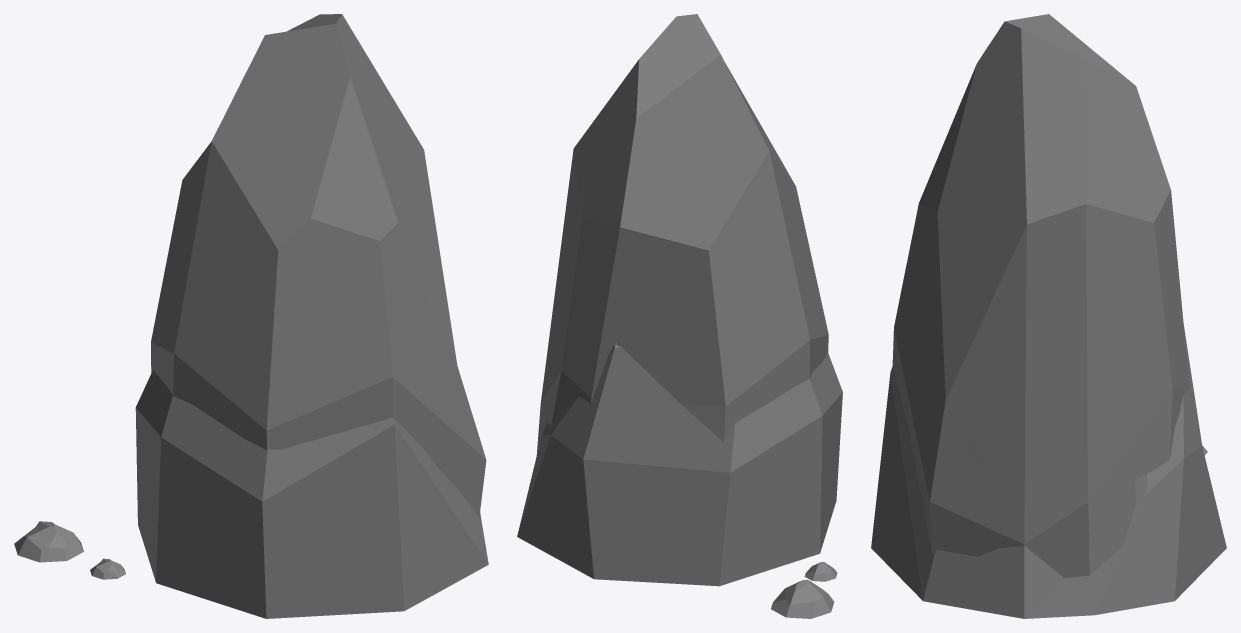
The model's file is Rocks.fbx.
The picture shows the model from 3 angles, left to right: view 1: azimuth 30°, elevation 25°; view 2: azimuth 150°, elevation 25°; view 3: azimuth 270°, elevation 25°; orthographic projection. The views are drawn at different scales.
Parts seen in each view (by area): view 1: Rock 1, Rock 2; view 2: Rock 1, Rock 2; view 3: Rock 1, Rock 2.
Part boxes in pixels (bbox=[...]): Rock 1: bbox=[151, 14, 486, 517]; Rock 2: bbox=[14, 370, 488, 618]; Rock 1: bbox=[536, 14, 828, 455]; Rock 2: bbox=[517, 342, 842, 618]; Rock 1: bbox=[892, 14, 1189, 578]; Rock 2: bbox=[871, 325, 1226, 618].
Bounding box in the file's own units: 2647 × 3571 × 2187.
